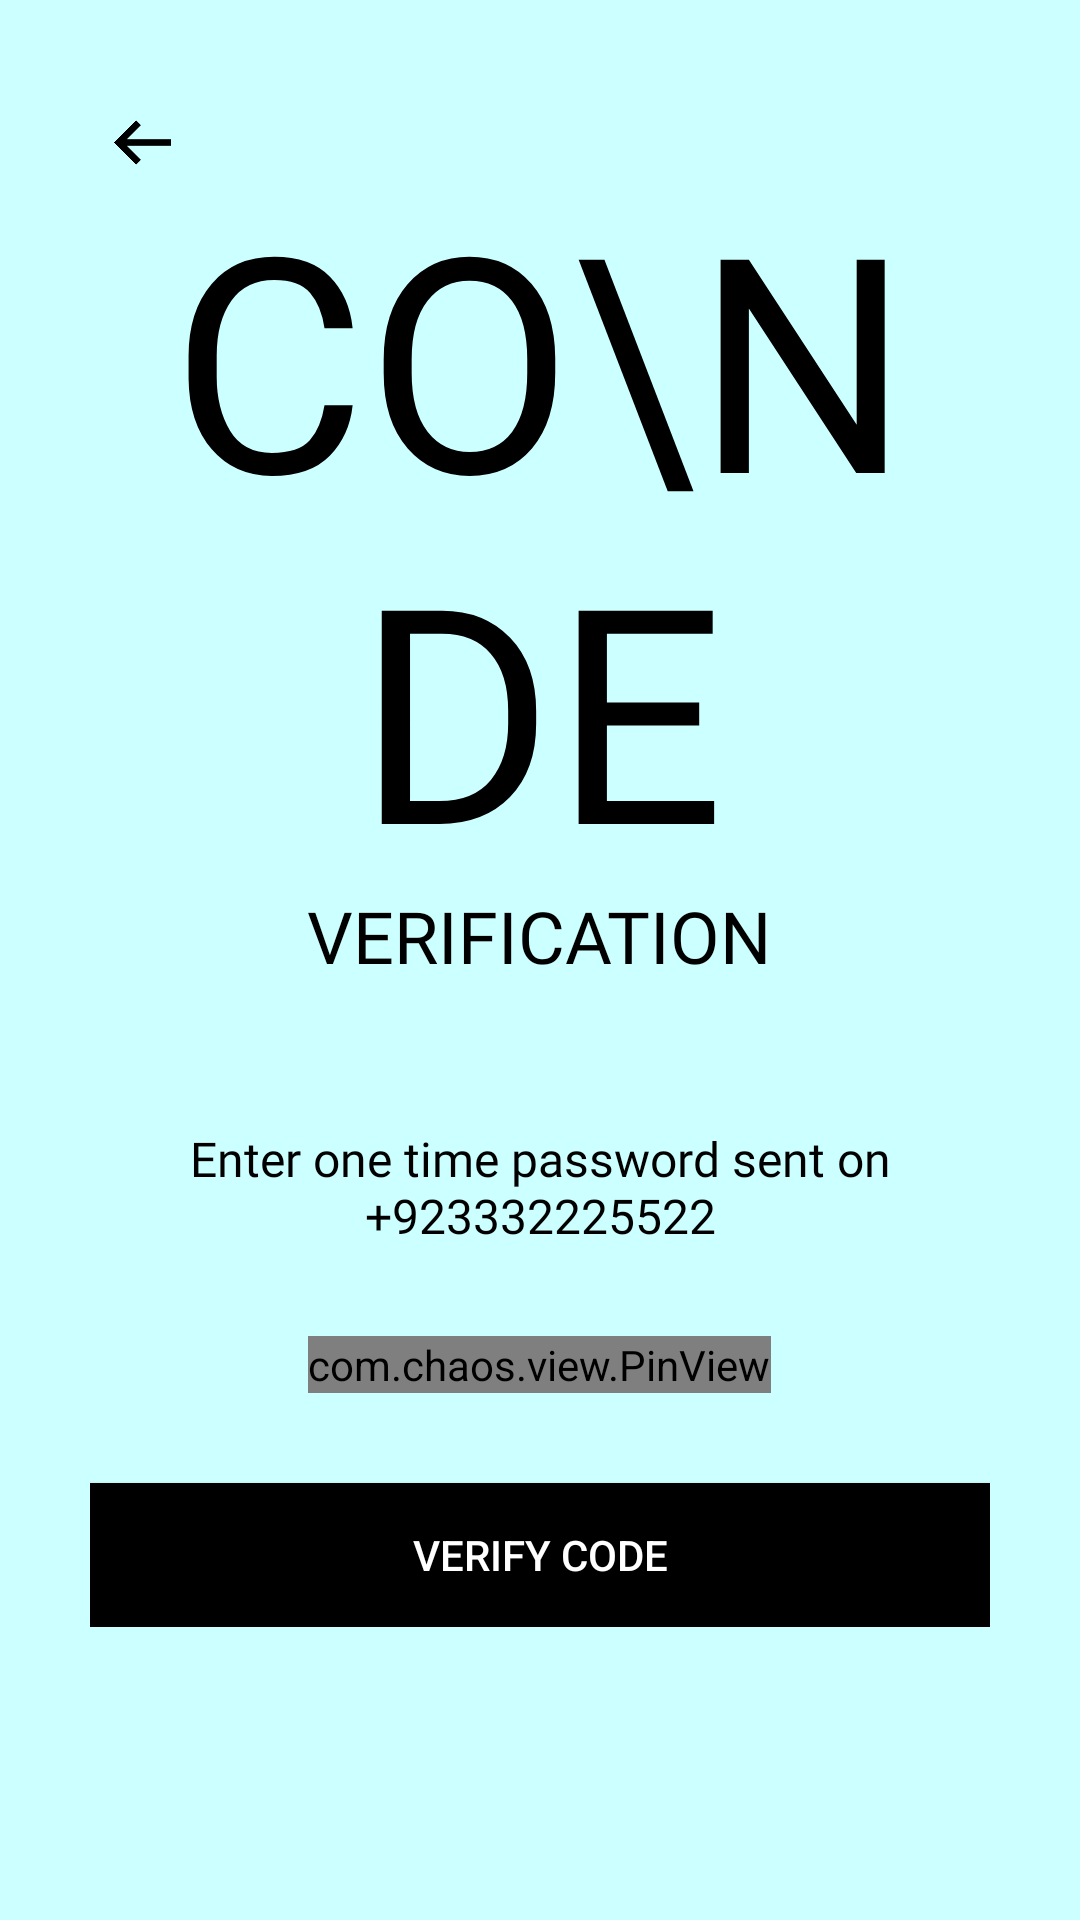

Screen size 1080×1920. Icon name, then its box in pixels as {"x1": x1, "y1": y1, "x2": x2, "y2": y2}:
left: {"x1": 114, "y1": 120, "x2": 171, "y2": 165}
